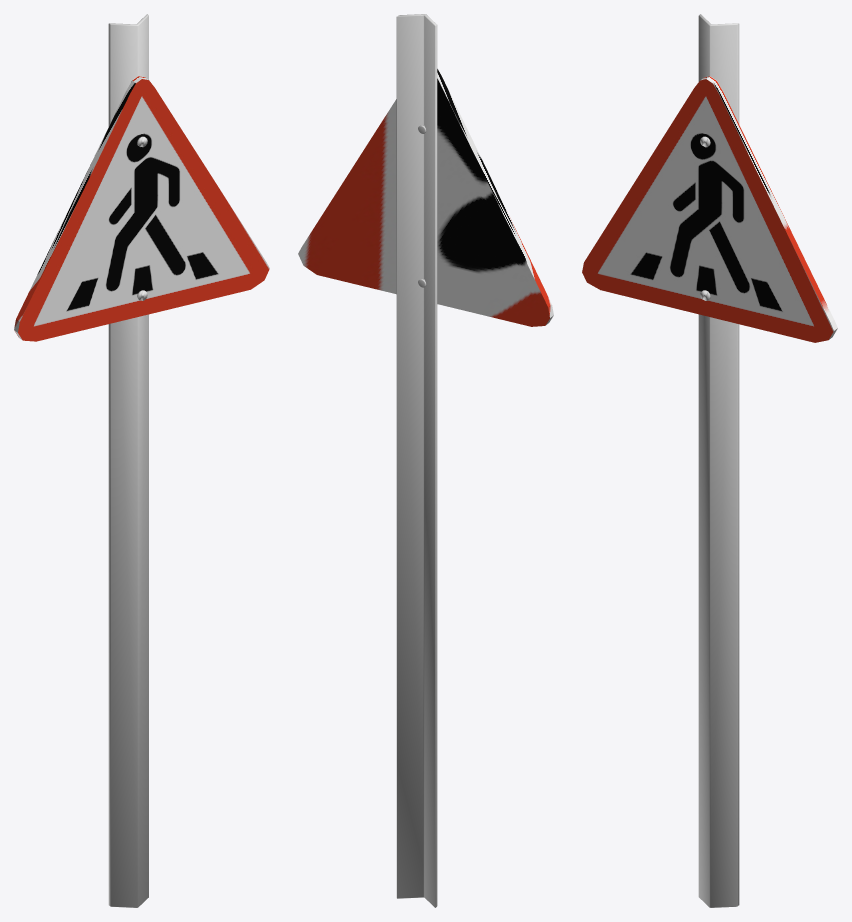
3 views of the same model, side by side, from view 1: azimuth 30°, elevation 25°; view 2: azimuth 150°, elevation 25°; view 3: azimuth 330°, elevation 25° (orthographic).
Parts seen in each view (by area): view 1: Obj3d66-479151-2-056, Obj3d66-479151-17-935; view 2: Obj3d66-479151-17-935, Obj3d66-479151-2-056; view 3: Obj3d66-479151-2-056, Obj3d66-479151-17-935.
Boxes of the visible parts, left/top/right/bottom form: Obj3d66-479151-2-056: left=14, top=76, right=269, bottom=341; Obj3d66-479151-17-935: left=108, top=14, right=148, bottom=907; Obj3d66-479151-17-935: left=396, top=14, right=437, bottom=907; Obj3d66-479151-2-056: left=298, top=69, right=553, bottom=326; Obj3d66-479151-2-056: left=582, top=76, right=837, bottom=342; Obj3d66-479151-17-935: left=698, top=14, right=739, bottom=907.
Size of the model in its own units: 0.8892 by 2.98 by 0.0916.
